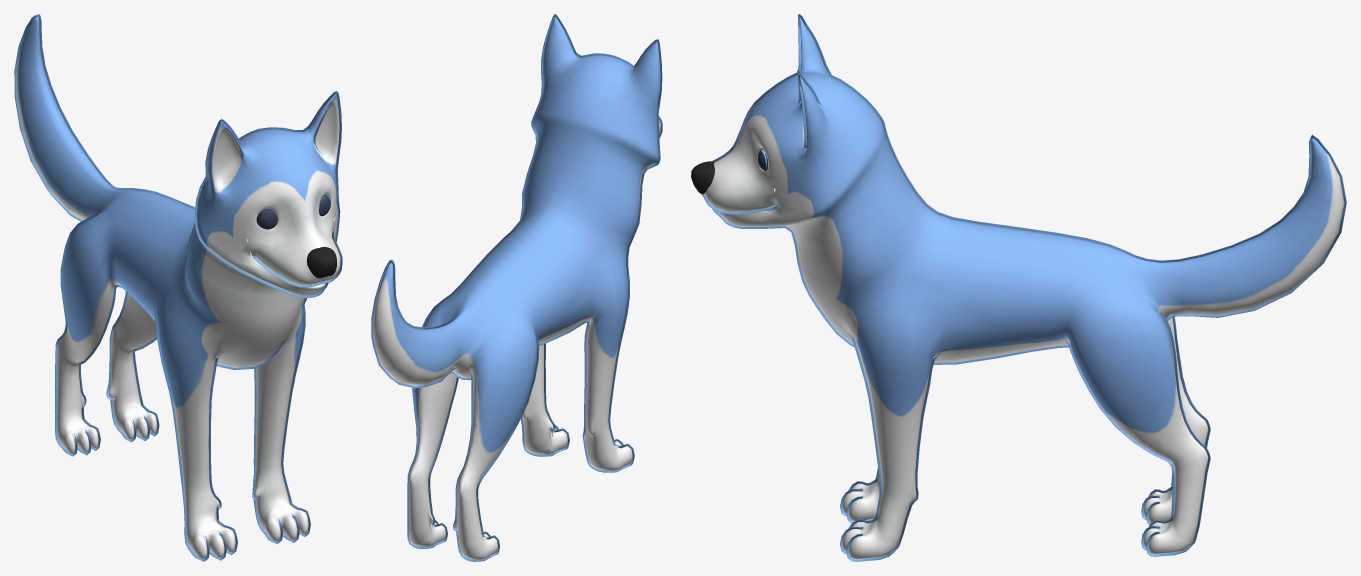
3 views of the same model, side by side, from view 1: azimuth 30°, elevation 25°; view 2: azimuth 150°, elevation 25°; view 3: azimuth 270°, elevation 25° (orthographic). The views are drawn at different scales.
Parts seen in each view (by area): view 1: Body_0, Nose_2, Eyes_1; view 2: Body_0; view 3: Body_0.
Part boxes in pixels (x1=…): Body_0: x1=14, y1=14, x2=342, y2=561; Nose_2: x1=306, y1=246, x2=336, y2=278; Eyes_1: x1=256, y1=195, x2=330, y2=229; Body_0: x1=371, y1=14, x2=662, y2=561; Body_0: x1=701, y1=14, x2=1346, y2=561.
Bounding box in the file's own units: 0.3499 × 1.11 × 1.34.
Materials: 4 (1 with a texture image).
